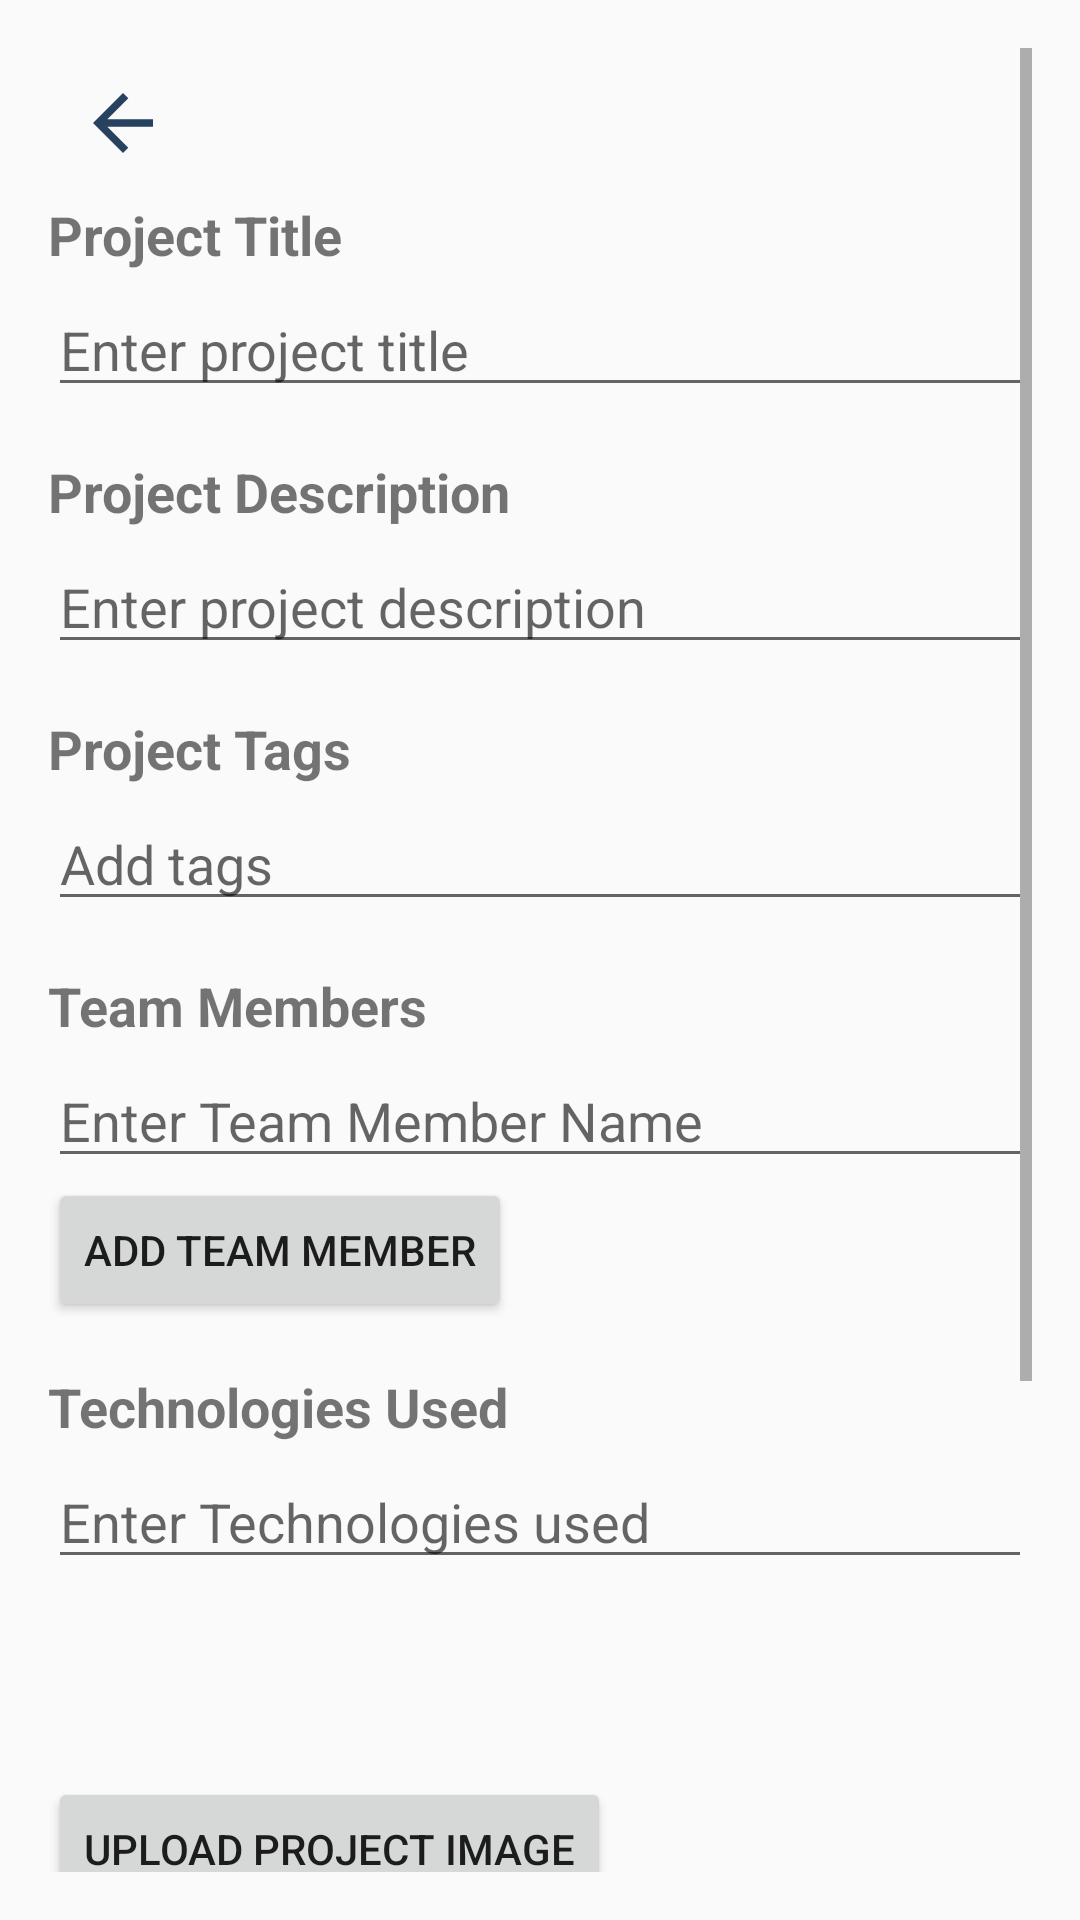

Screen size 1080w x 1920h. Icon name, then its center in pixels as [x,y]:
back: [123,123]
